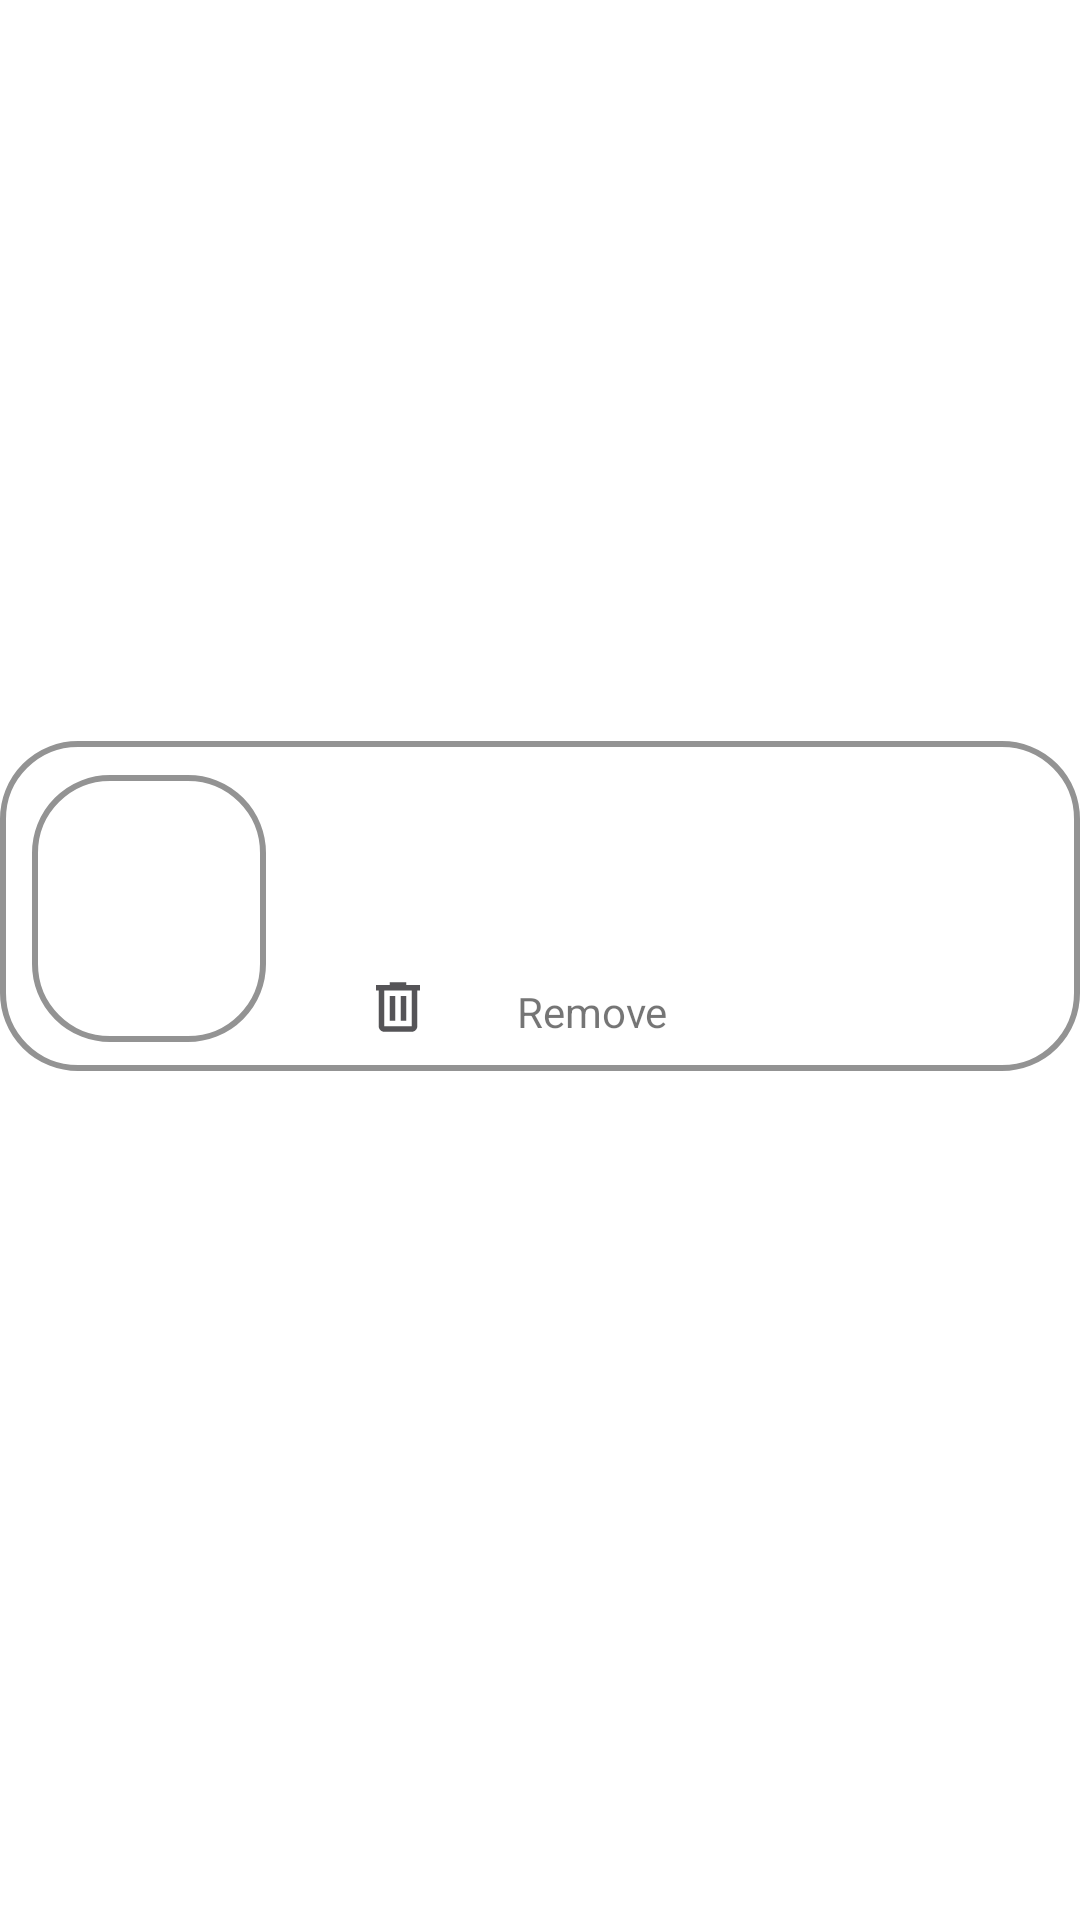

Icon click points for this 1080px×1920px phone screenshot, format point (x, y):
Delete Item: point (398, 1007)
